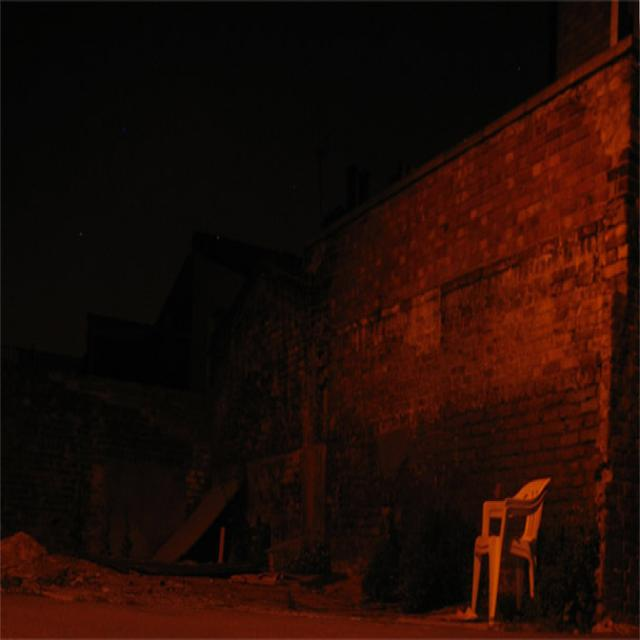chair: (456, 447, 557, 628)
